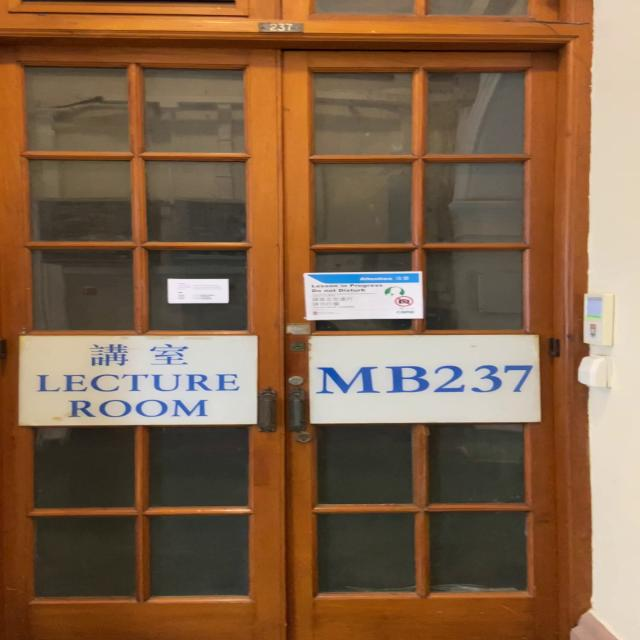room237: (252, 22, 312, 36)
room237Window: (312, 360, 536, 400)
